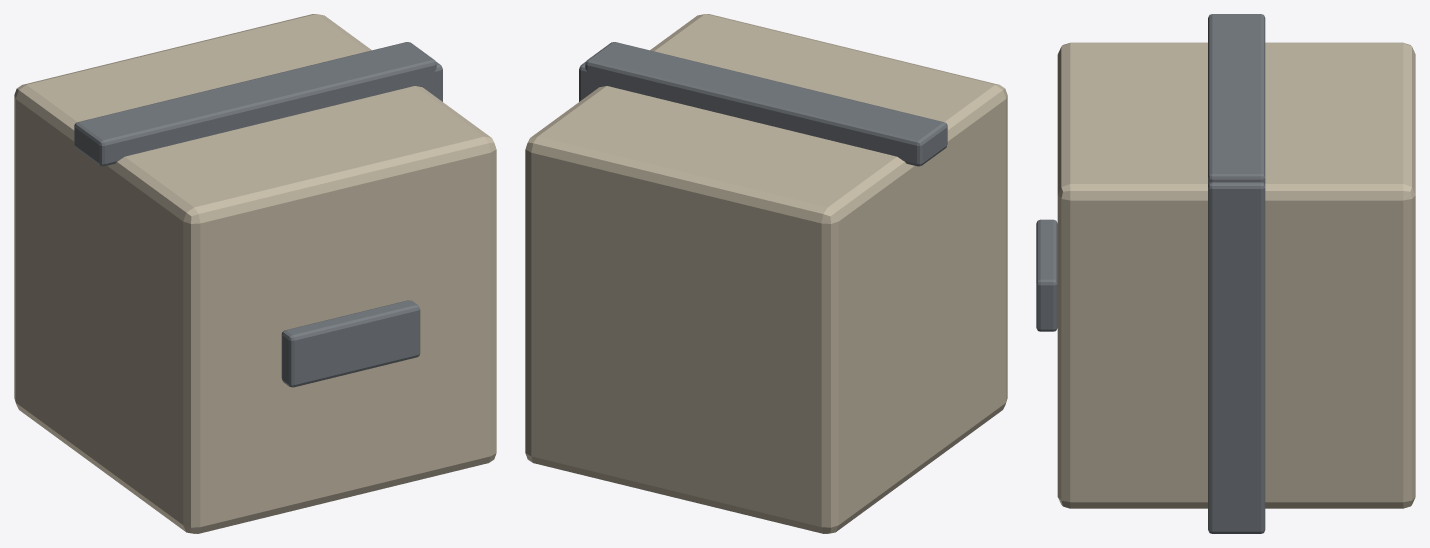
File: TC_TestCrate.glb
3 renders of one model, left to right at view 1: azimuth 30°, elevation 25°; view 2: azimuth 150°, elevation 25°; view 3: azimuth 270°, elevation 25°, orthographic.
Parts seen in each view (by area): view 1: TC_TestCrate, TC_TestCrate_Band_X, TC_TestCrate_SideHandle; view 2: TC_TestCrate, TC_TestCrate_Band_X; view 3: TC_TestCrate, TC_TestCrate_Band_Z, TC_TestCrate_Band_X, TC_TestCrate_SideHandle.
Boxes of the visible parts, bbox=[...] form: TC_TestCrate: bbox=[14, 14, 496, 533]; TC_TestCrate_Band_X: bbox=[74, 42, 436, 166]; TC_TestCrate_SideHandle: bbox=[281, 300, 420, 387]; TC_TestCrate: bbox=[525, 14, 1007, 533]; TC_TestCrate_Band_X: bbox=[585, 42, 947, 166]; TC_TestCrate: bbox=[1057, 42, 1415, 508]; TC_TestCrate_Band_Z: bbox=[1208, 182, 1265, 533]; TC_TestCrate_Band_X: bbox=[1208, 14, 1265, 183]; TC_TestCrate_SideHandle: bbox=[1036, 219, 1057, 331].
Bounding box in the file's own units: 1.1 × 1.1 × 1.06.
